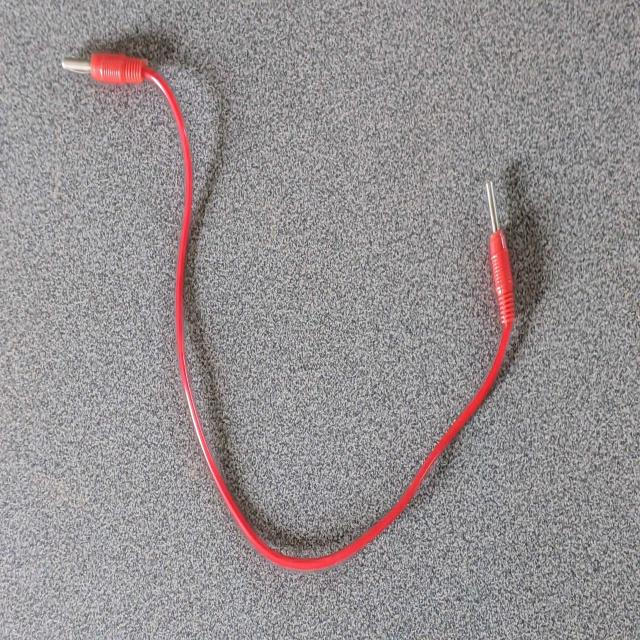BNC Cable: (54, 11, 520, 575)
